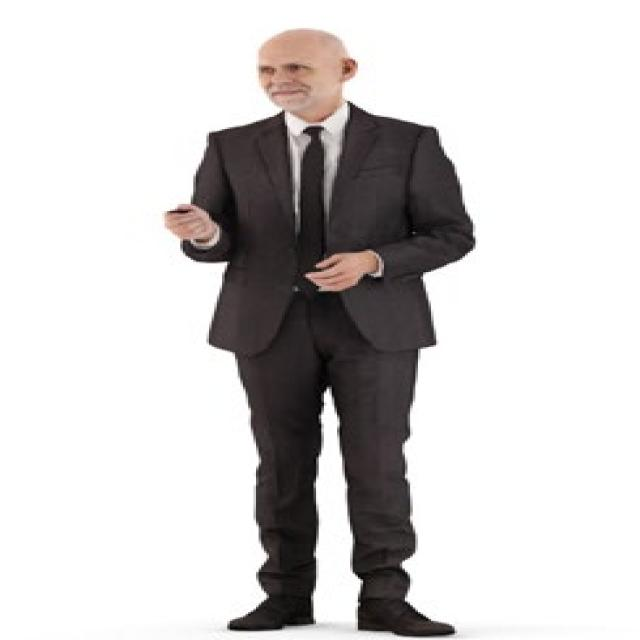standing: (162, 24, 481, 640)
